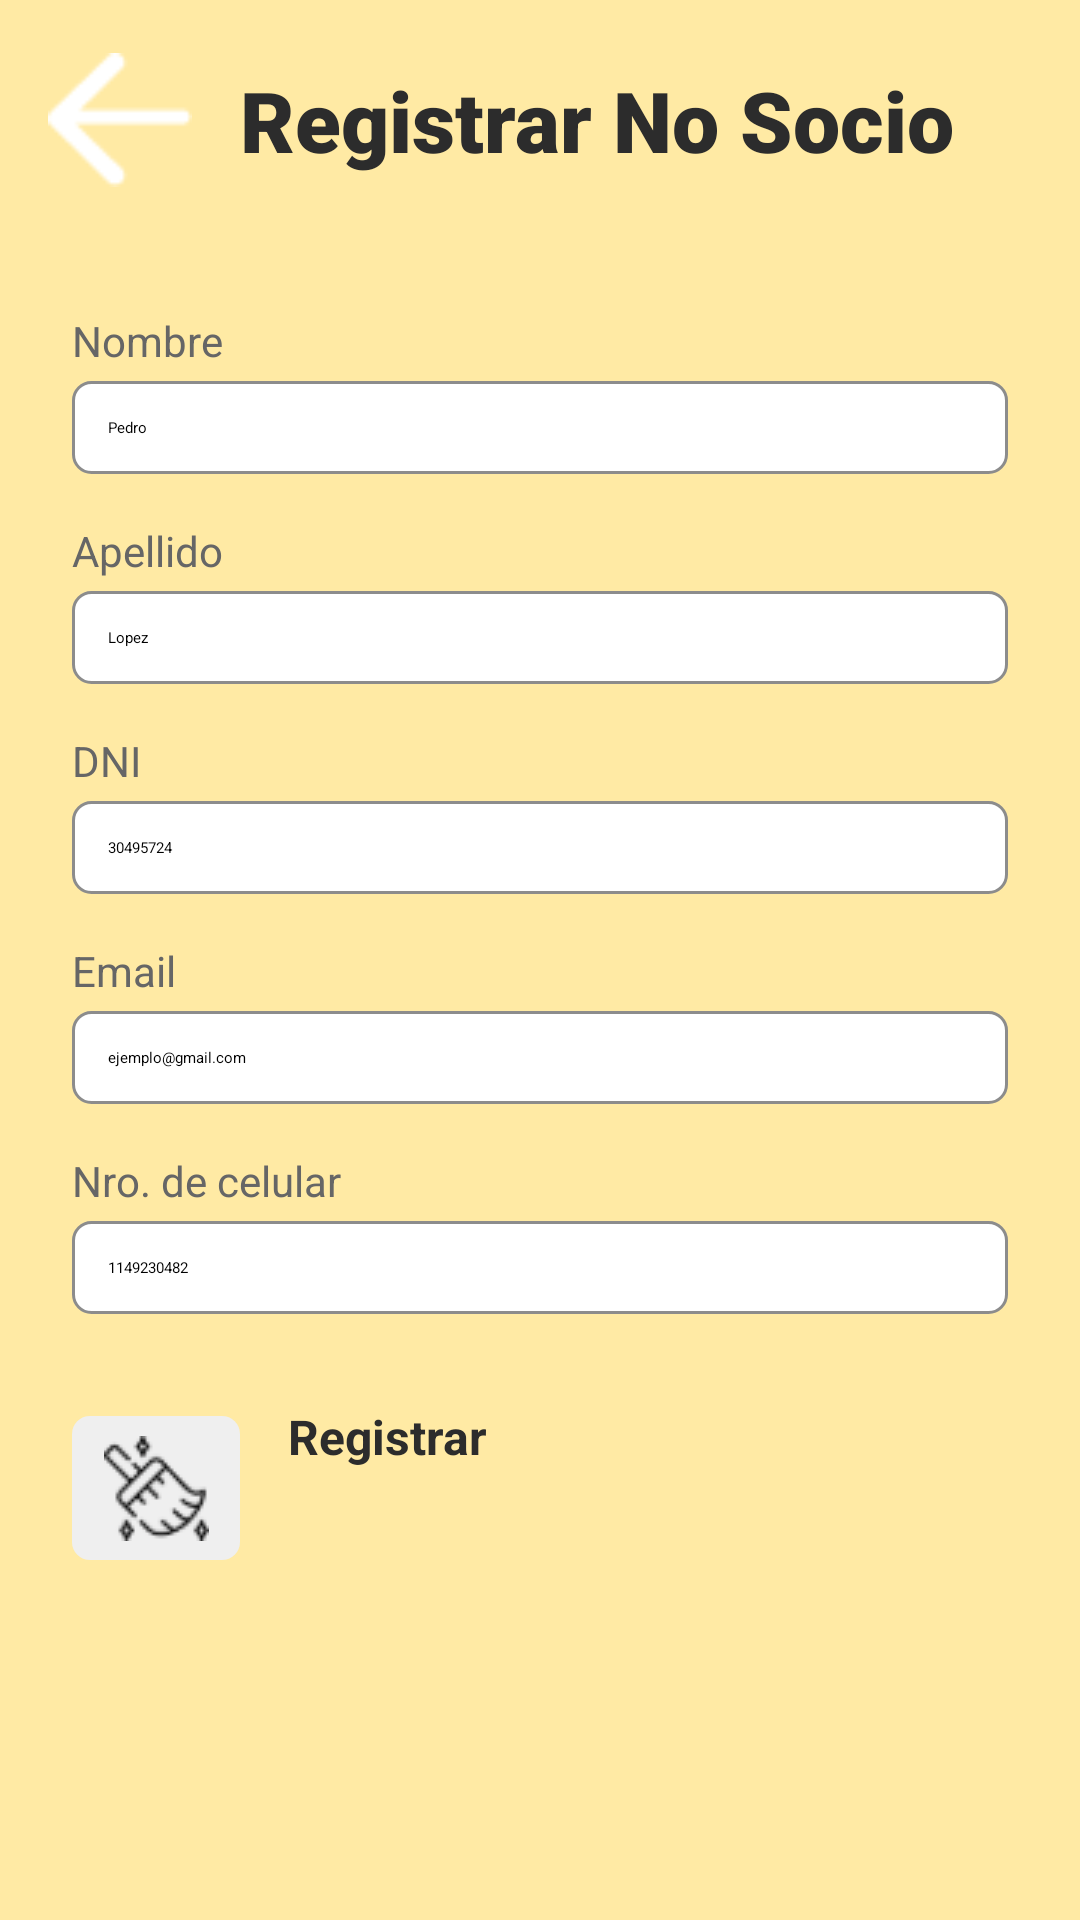

Icon click points for this 1080×1920 phone screenshot, format [x,y]:
atras: [120,119]
limpiar: [156,1488]
